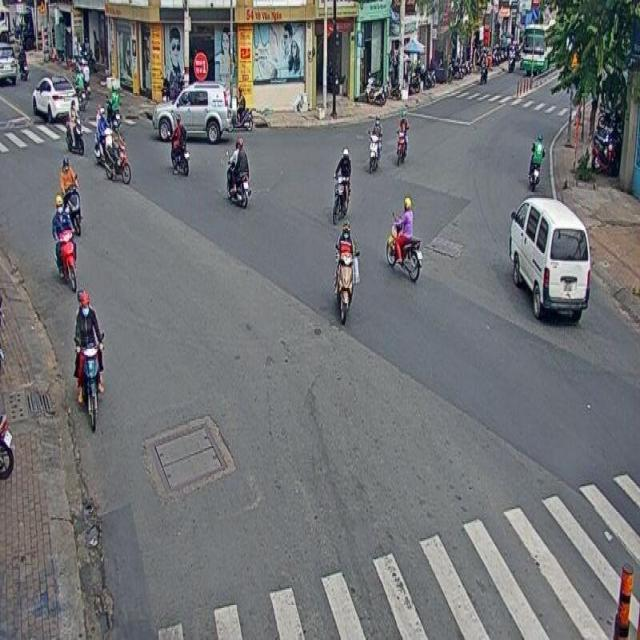car: (152, 81, 231, 146)
motorcycle: (73, 290, 104, 431), (386, 197, 422, 285), (334, 219, 360, 323), (51, 194, 77, 292), (225, 137, 252, 209), (105, 122, 132, 184), (60, 157, 81, 236), (331, 146, 351, 222), (170, 114, 190, 177), (65, 99, 85, 155), (367, 114, 382, 174), (395, 110, 408, 168)
truck: (510, 198, 592, 319)
